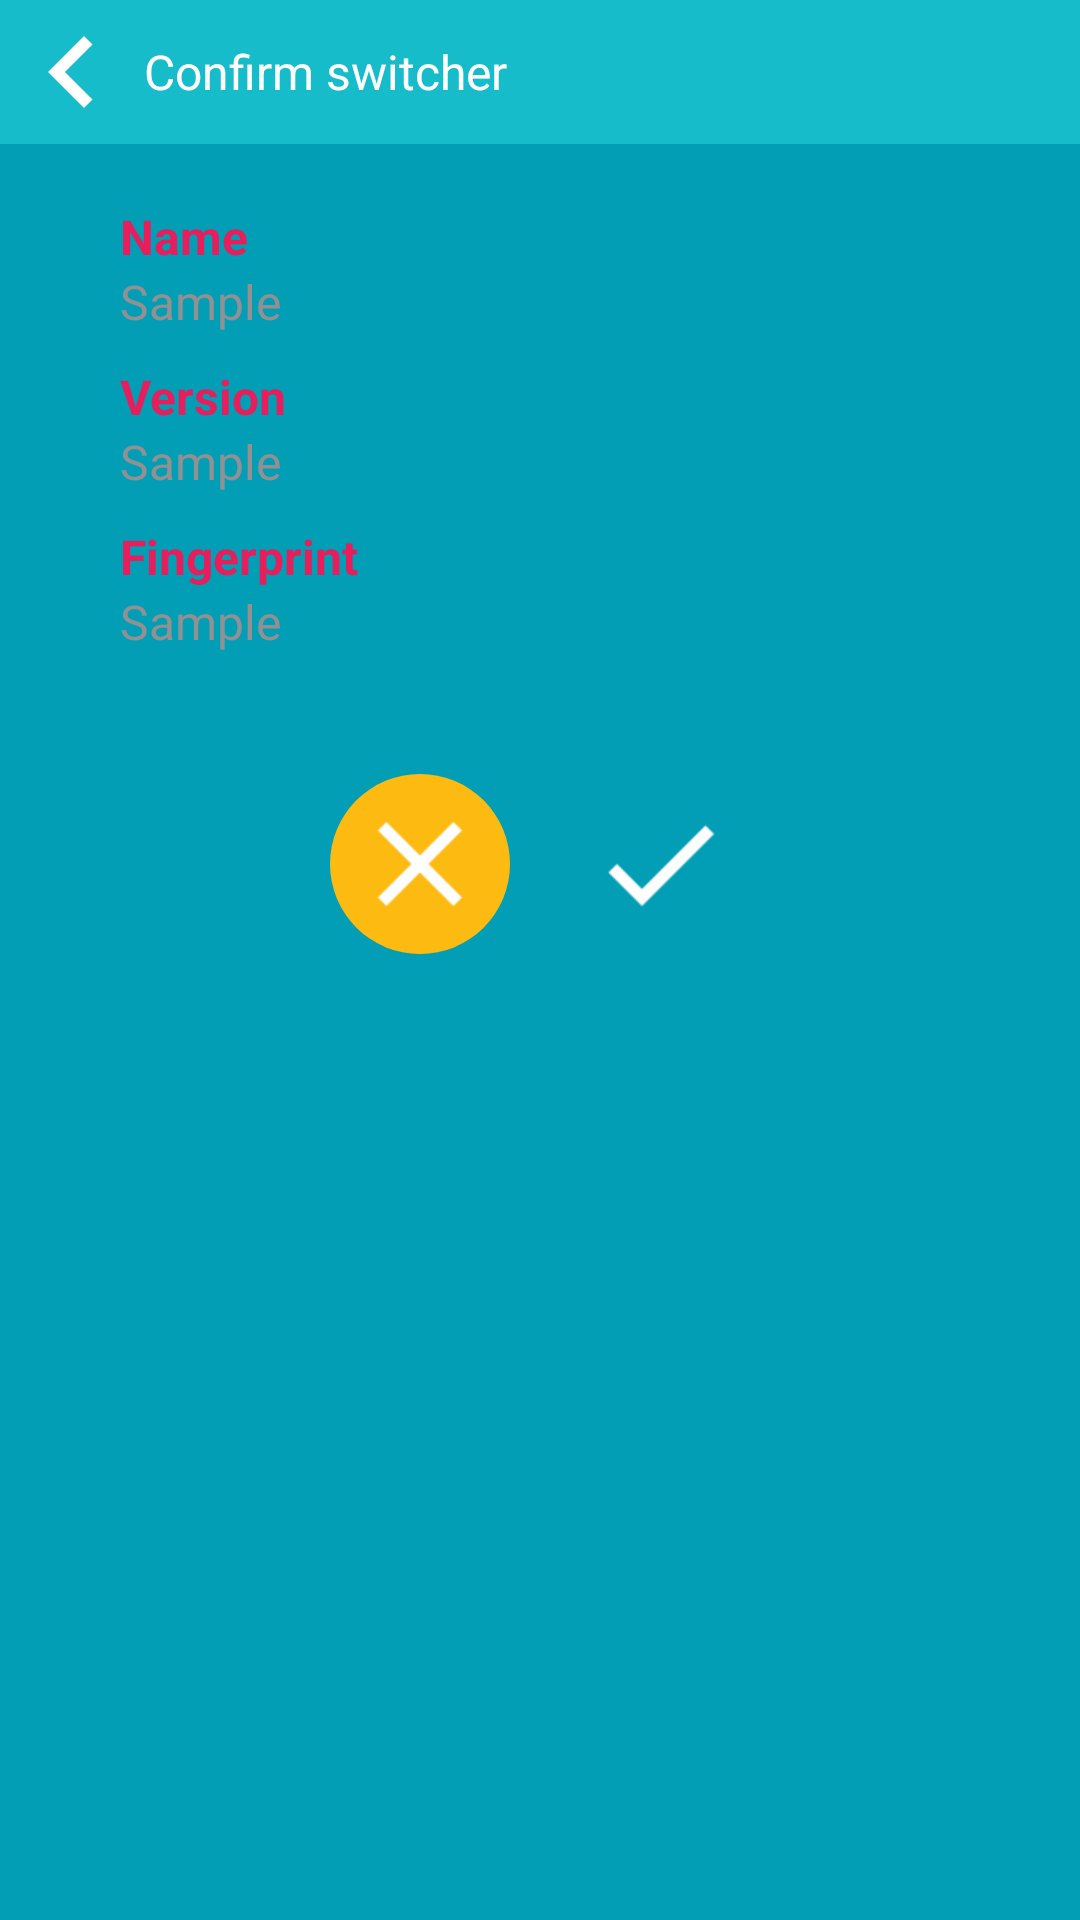

Named icons in this screenshot (1080×1920) and their centers, [x,y]:
cancel: [420,864]
prev: [70,72]
